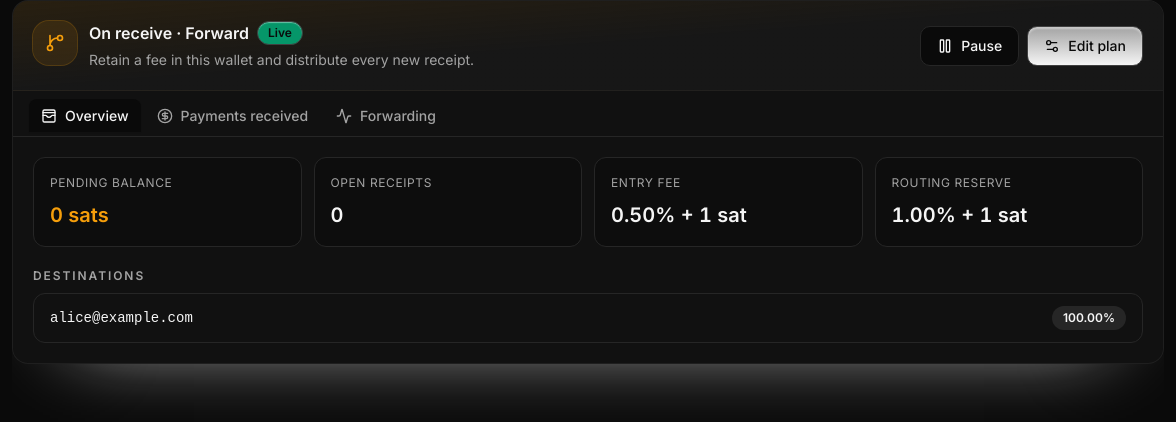
Test case: RemoteWalletForwardingPanel › leaves a payment predating enabledAt as a regular receive
Click the tab "Payments received": (232, 116) [144,99,320,132]
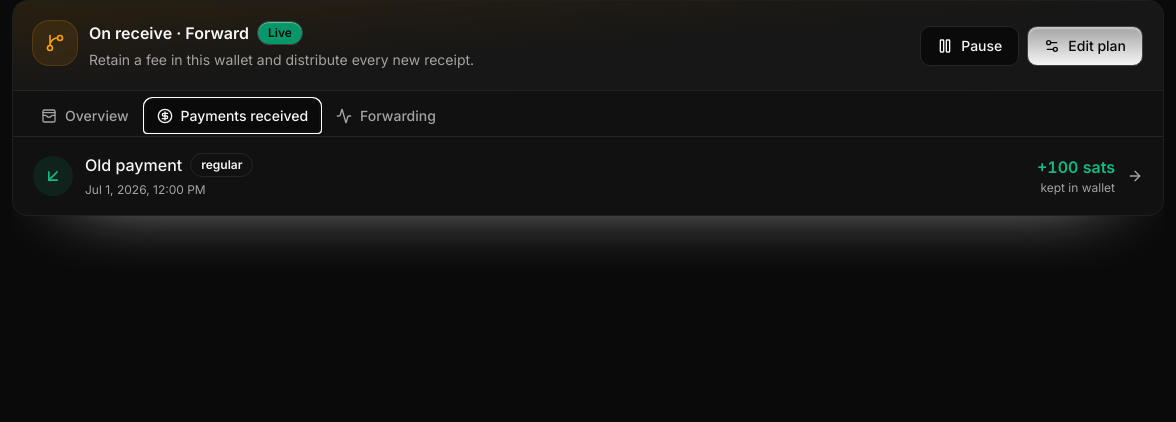
Expected: the text "kept in wallet" is shown, [1037,179,1115,197]
